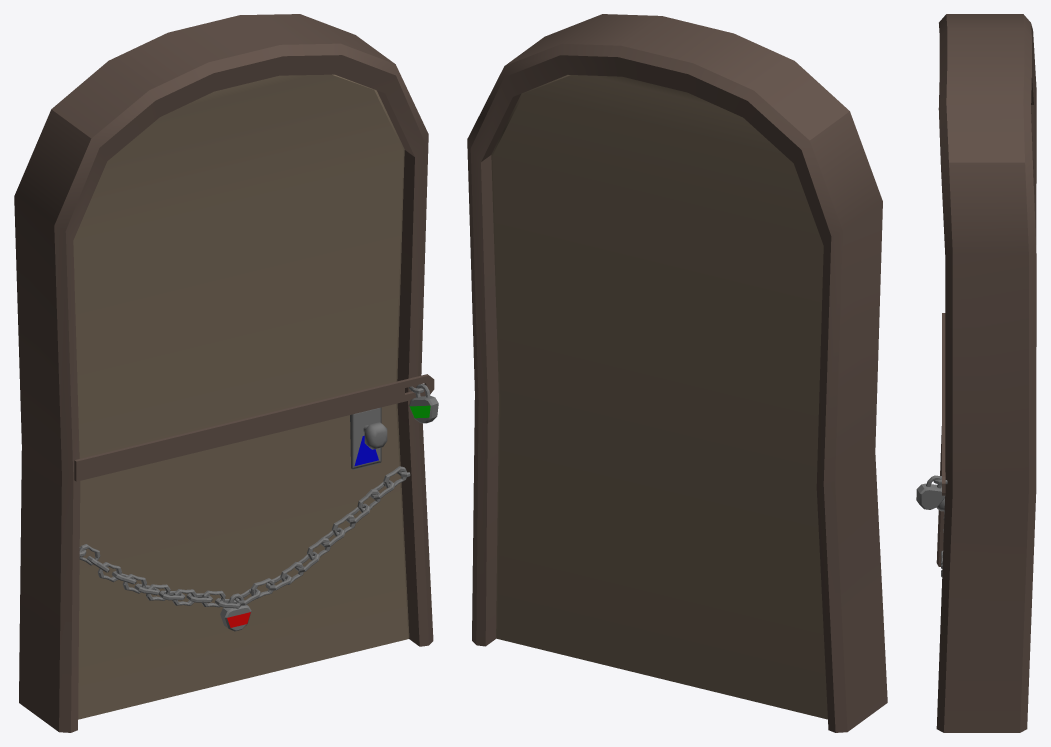
File: deur.fbx
3 renders of one model, left to right at view 1: azimuth 30°, elevation 25°; view 2: azimuth 150°, elevation 25°; view 3: azimuth 270°, elevation 25°, orthographic. The views are drawn at different scales.
Visible parts, largest first — view 1: deur, deuropening, deur_stop, chain_right, chain_left; view 2: deur, deuropening; view 3: deuropening, deur_stop, lock2.
Part boxes in pixels (box(x1,y1,x2,y2)): deur: box(73, 74, 409, 719); deuropening: box(14, 14, 433, 732); deur_stop: box(74, 374, 434, 481); chain_right: box(235, 466, 406, 605); chain_left: box(79, 544, 240, 608); deur: box(491, 75, 827, 719); deuropening: box(467, 14, 887, 732); deuropening: box(936, 14, 1036, 732); deur_stop: box(942, 313, 945, 495); lock2: box(916, 483, 944, 509).
Size of the model in its own units: 83.54 by 135 by 24.44.
